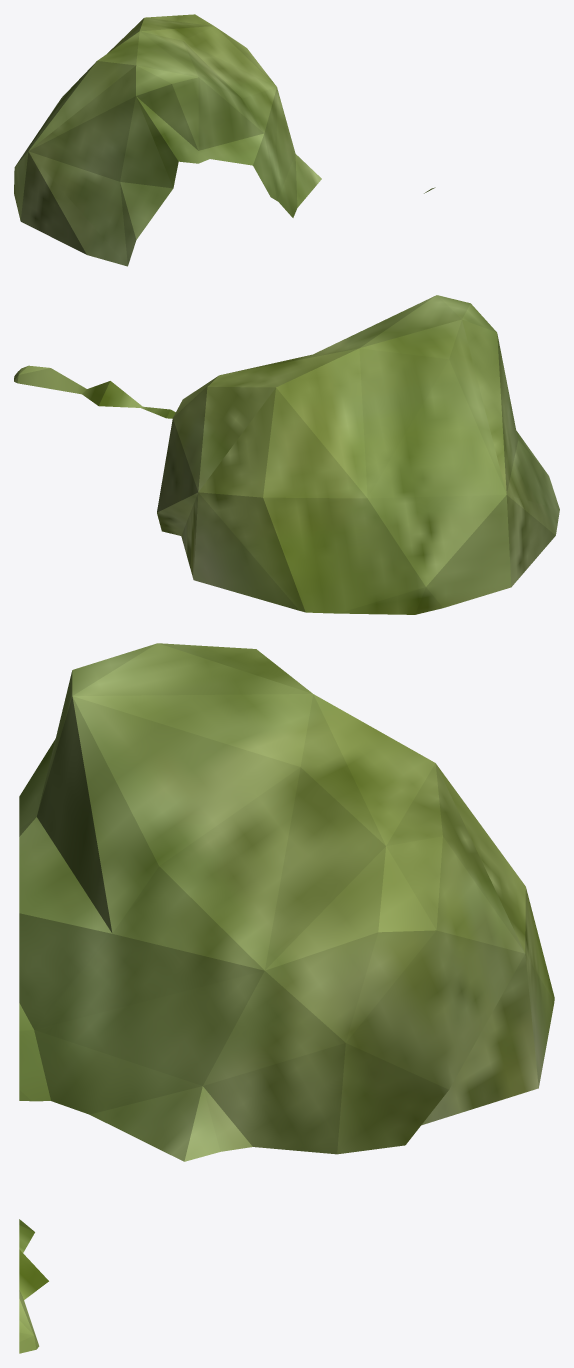
The picture shows the model from 3 angles, top to bottom: view 1: azimuth 30°, elevation 25°; view 2: azimuth 150°, elevation 25°; view 3: azimuth 270°, elevation 25°; orthographic projection. The views are drawn at different scales.
Size of the model in its own units: 0.7164 by 0.2427 by 0.3561.
1 material, 1 textured.
